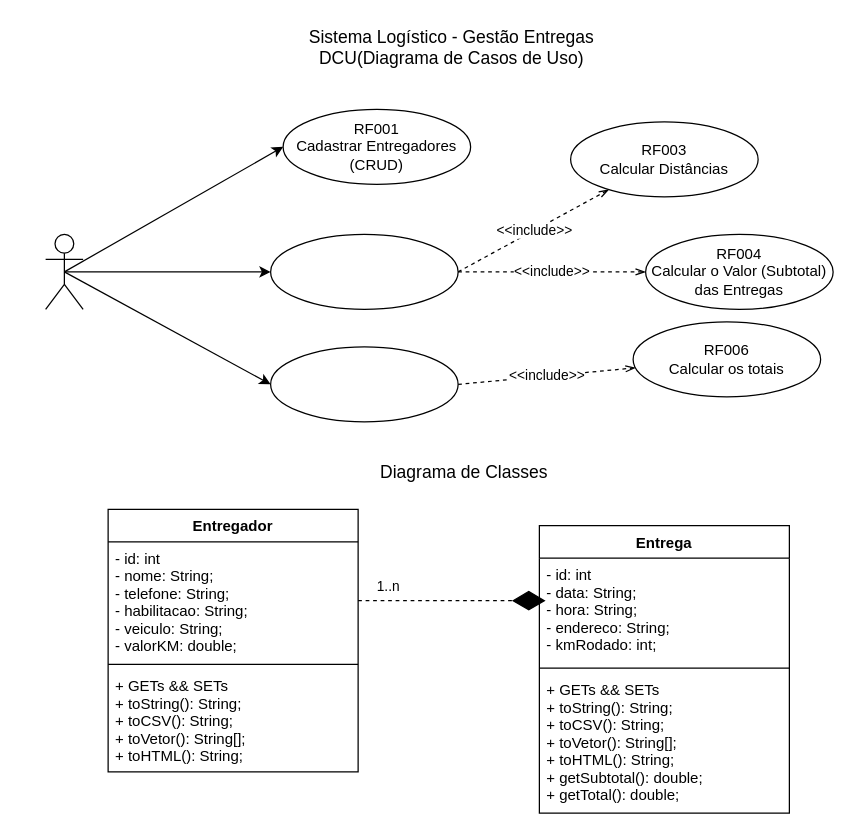
Image size: 855x838. Some labels were removed from this diagram. The centre of each missing label's shape, as x and y in pixels:
"RF002 Cadastrar Entregas" belongs at pixel 363 271.
"RF005 Gerar Relatório de Entregas por Entregador e Período" belongs at pixel 363 384.
"Secretario(a)" belongs at pixel 63 271.
